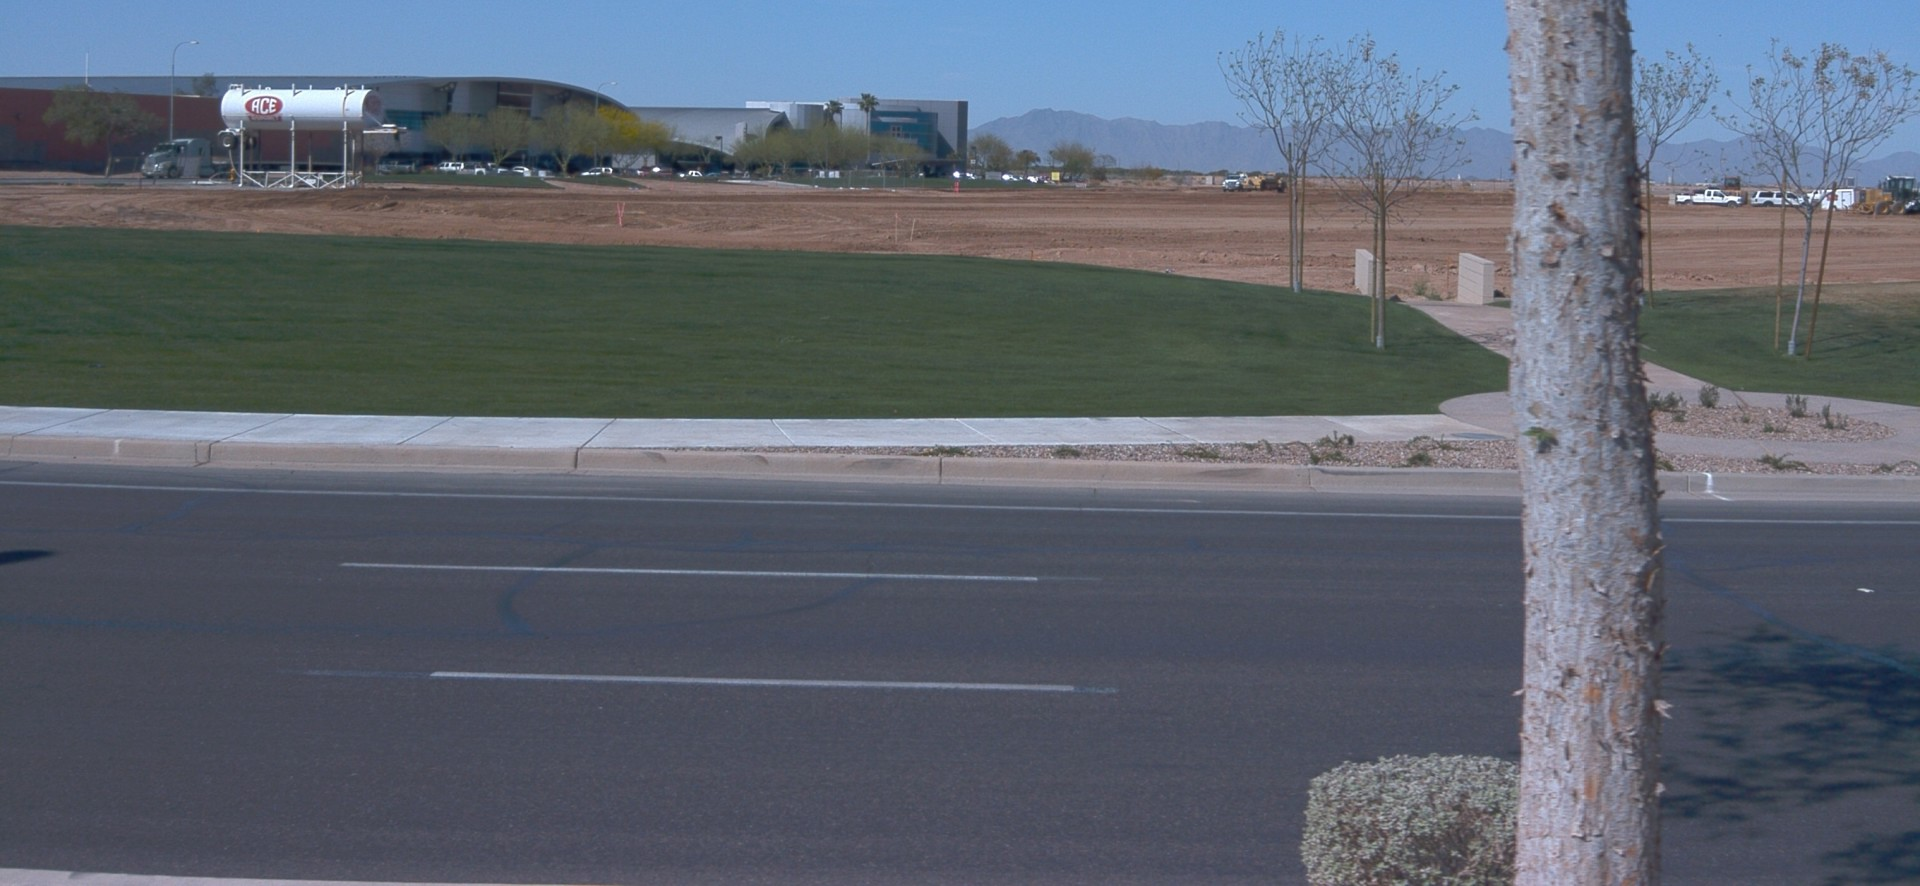TYPE_VEHICLE: (137, 136, 354, 179), (137, 136, 354, 179), (137, 136, 354, 179), (137, 136, 354, 179), (1860, 173, 1920, 218), (1860, 173, 1920, 218), (1860, 173, 1920, 218), (1860, 173, 1920, 218), (1674, 187, 1744, 208), (1674, 187, 1744, 208), (1674, 187, 1744, 208), (1674, 187, 1744, 208), (1750, 190, 1813, 209), (1750, 190, 1813, 209), (1750, 190, 1813, 209), (1750, 190, 1813, 209), (1714, 174, 1753, 202), (1714, 174, 1753, 202), (1714, 174, 1753, 202), (1714, 174, 1753, 202), (1236, 171, 1287, 192), (1236, 171, 1287, 192), (1236, 171, 1287, 192), (1236, 171, 1287, 192), (1822, 185, 1861, 209), (1822, 185, 1861, 209), (1822, 185, 1861, 209), (1822, 185, 1861, 209), (1222, 174, 1245, 195), (1222, 174, 1245, 195), (1222, 174, 1245, 195), (1222, 174, 1245, 195), (580, 165, 615, 176), (580, 165, 615, 176), (580, 165, 615, 176), (580, 165, 615, 176), (431, 162, 464, 173), (431, 162, 464, 173), (431, 162, 464, 173), (431, 162, 464, 173), (460, 164, 478, 177), (460, 164, 478, 177), (460, 164, 478, 177), (460, 164, 478, 177), (1806, 190, 1822, 201), (1806, 190, 1822, 201), (1806, 190, 1822, 201), (1806, 190, 1822, 201), (1687, 187, 1719, 192), (1687, 187, 1719, 192), (1687, 187, 1719, 192), (1687, 187, 1719, 192), (1904, 199, 1918, 208), (1904, 199, 1918, 208), (1904, 199, 1918, 208), (1904, 199, 1918, 208), (687, 173, 703, 179), (687, 173, 703, 179), (687, 173, 703, 179), (687, 173, 703, 179), (508, 169, 528, 173), (508, 169, 528, 173), (508, 169, 528, 173), (508, 169, 528, 173), (487, 163, 501, 168), (487, 163, 501, 168), (487, 163, 501, 168), (487, 163, 501, 168)
